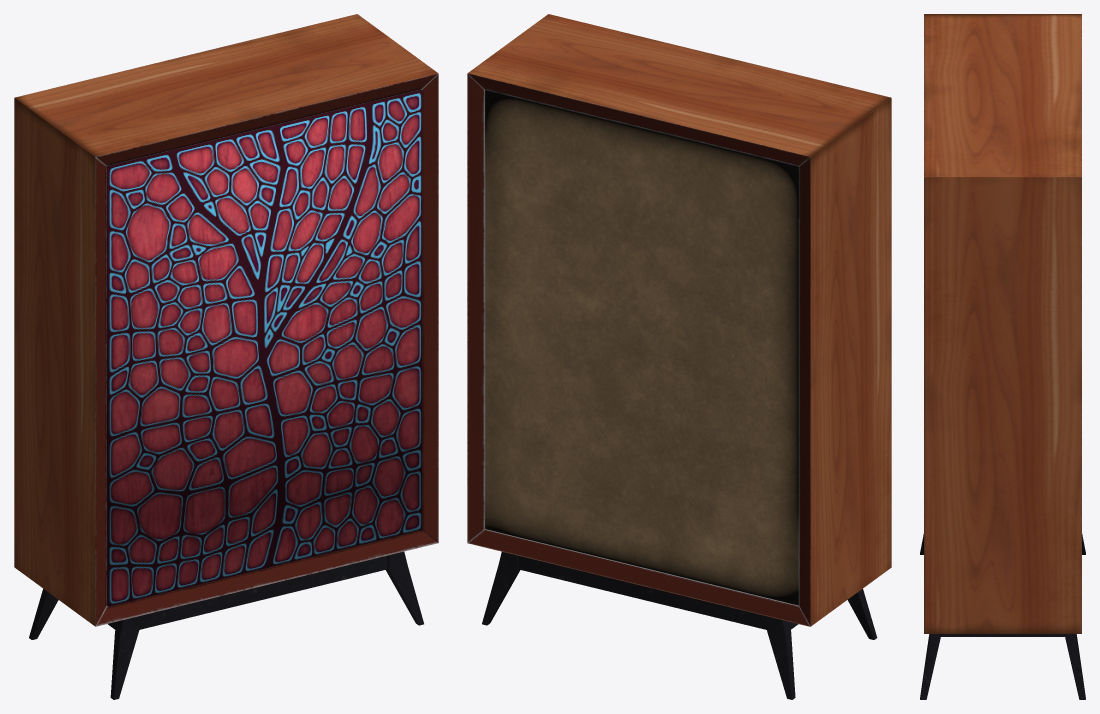
Rendered from ward9.glb.
The picture shows the model from 3 angles, left to right: view 1: azimuth 30°, elevation 25°; view 2: azimuth 150°, elevation 25°; view 3: azimuth 270°, elevation 25°; orthographic projection. The views are drawn at different scales.
Visible parts, largest first — view 1: Object_3, Object_2; view 2: Object_2; view 3: Object_2.
Part boxes in pixels (box(x1,y1,x2,y2)): Object_3: box(106, 89, 422, 606); Object_2: box(14, 14, 438, 699); Object_2: box(467, 14, 891, 699); Object_2: box(920, 14, 1085, 699).
Size of the model in its own units: 1510 by 2293 by 649.
Materials: 2 (2 with a texture image).
